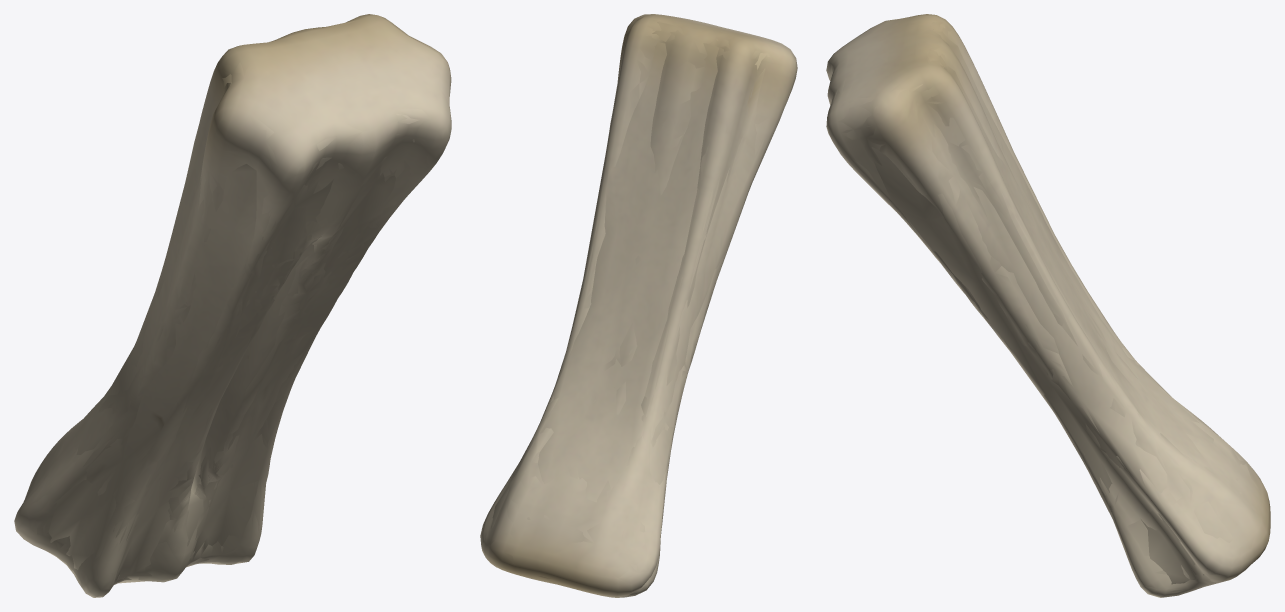
Rendered from vertebrae caudales 10.fbx.
3 views of the same model, side by side, from view 1: azimuth 30°, elevation 25°; view 2: azimuth 150°, elevation 25°; view 3: azimuth 270°, elevation 25° (orthographic). The views are drawn at different scales.
Visible parts, largest first — view 1: vertebrae caudales 10 low, vertebrae caudales 10 high, vertebrae caudales 10; view 2: vertebrae caudales 10 low, vertebrae caudales 10 high, vertebrae caudales 10; view 3: vertebrae caudales 10 low, vertebrae caudales 10 high, vertebrae caudales 10.
Part boxes in pixels (x1,y1,x2,y2): vertebrae caudales 10 low: (43,20,419,583); vertebrae caudales 10 high: (14,15,451,595); vertebrae caudales 10: (14,14,451,597); vertebrae caudales 10 low: (490,22,769,578); vertebrae caudales 10 high: (481,14,797,597); vertebrae caudales 10: (480,14,797,597); vertebrae caudales 10 low: (831,29,1241,584); vertebrae caudales 10 high: (826,14,1270,597); vertebrae caudales 10: (826,14,1270,597).
Bounding box in the file's own units: 2.16 × 5.75 × 4.36.
